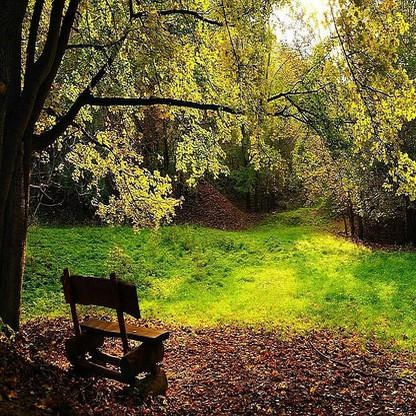obstacle: (49, 262, 178, 376)
